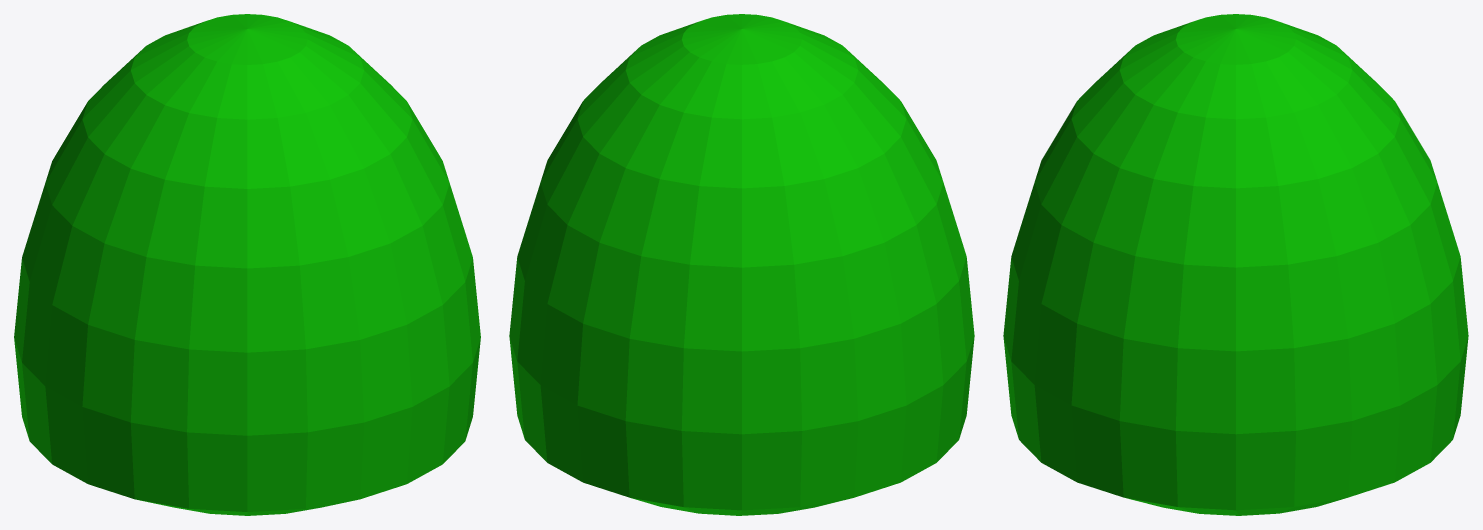
File: Boss1.fbx
3 renders of one model, left to right at view 1: azimuth 30°, elevation 25°; view 2: azimuth 150°, elevation 25°; view 3: azimuth 270°, elevation 25°, orthographic.
Visible parts, largest first — view 1: Sphere; view 2: Sphere; view 3: Sphere.
Boxes of the visible parts, x1,y1,x2,y2 form: Sphere: (14,14,480,515); Sphere: (509,14,974,515); Sphere: (1003,14,1468,515).
Bounding box in the file's own units: 200 × 202 × 200.
